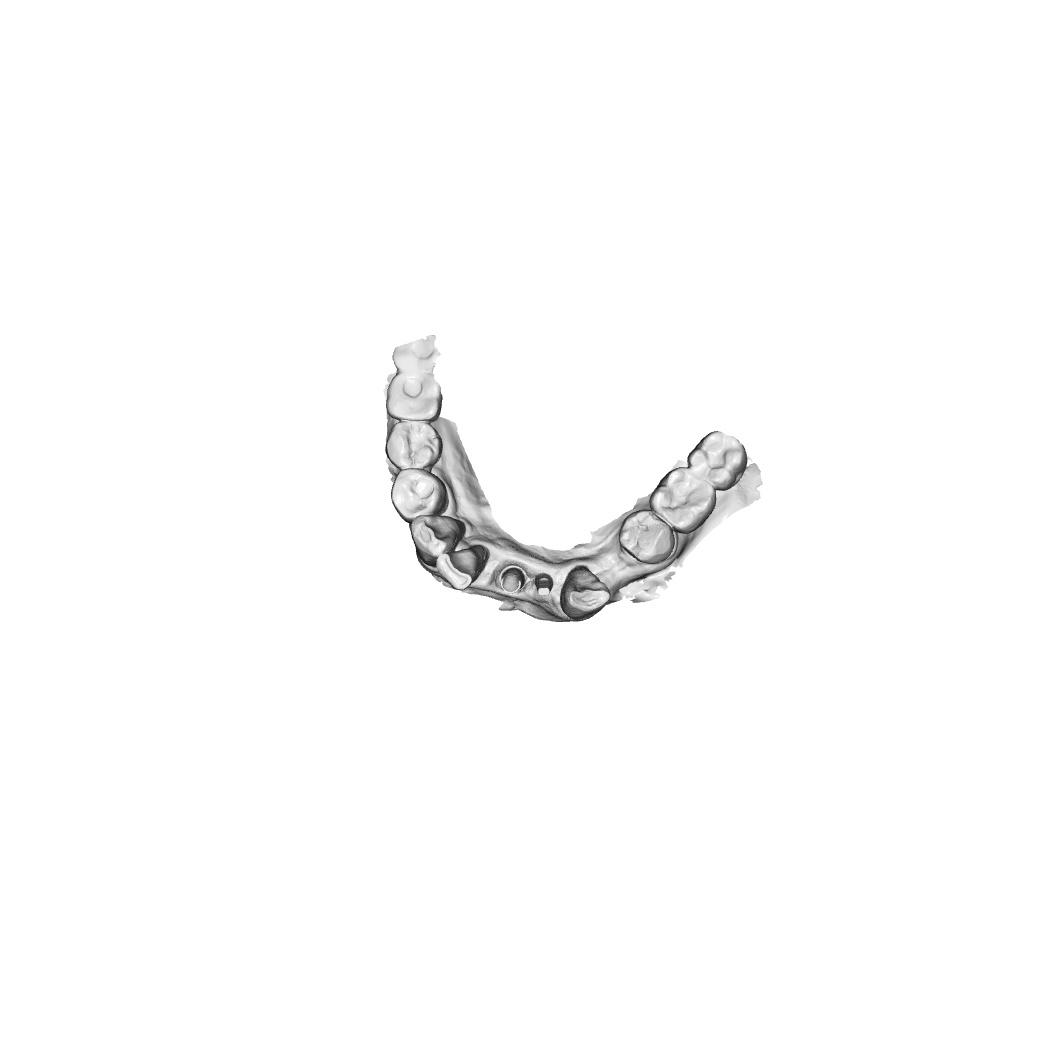abutment: (498, 563, 528, 595), (534, 571, 554, 598)
canine: (559, 564, 612, 621), (410, 514, 466, 567)
incisor: (435, 545, 490, 591)
molar: (648, 466, 717, 535), (686, 430, 748, 491), (385, 371, 444, 422)
premolar: (618, 509, 677, 565), (390, 468, 448, 524), (384, 420, 444, 470)
